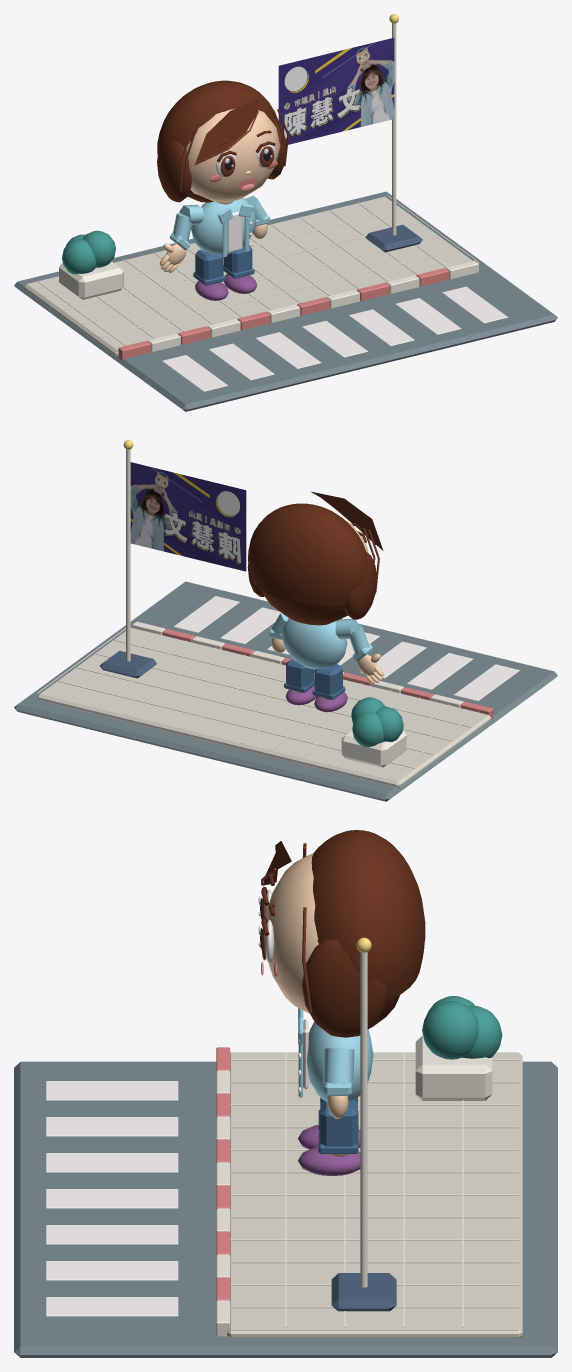
The model's file is huiwen-corner-greeting.glb.
3 views of the same model, one above another, from view 1: azimuth 30°, elevation 25°; view 2: azimuth 150°, elevation 25°; view 3: azimuth 270°, elevation 25° (orthographic). The views are drawn at different scales.
Visible parts, largest first — view 1: purple shoe, OriginalDriveFlag_17ewzvxQ9Mt4qrUyovmTGcRCUW1u6I7pY, SmallQ side swept fringe, rolled wave cuff; view 2: purple shoe, SmallQ side swept fringe, OriginalDriveFlag_17ewzvxQ9Mt4qrUyovmTGcRCUW1u6I7pY, rolled wave cuff; view 3: purple shoe, SmallQ side swept fringe.
Boxes of the visible parts, x1,y1,x2,y2 form: purple shoe: [14, 14, 557, 411]; OriginalDriveFlag_17ewzvxQ9Mt4qrUyovmTGcRCUW1u6I7pY: [278, 37, 394, 144]; SmallQ side swept fringe: [157, 80, 275, 189]; rolled wave cuff: [159, 213, 191, 272]; purple shoe: [14, 440, 557, 801]; SmallQ side swept fringe: [248, 491, 383, 605]; OriginalDriveFlag_17ewzvxQ9Mt4qrUyovmTGcRCUW1u6I7pY: [130, 462, 246, 571]; rolled wave cuff: [349, 625, 383, 683]; purple shoe: [14, 839, 557, 1357]; SmallQ side swept fringe: [264, 830, 425, 1000].
Bounding box in the file's own units: 5.8 × 3.54 × 4.6.
3 materials, 3 textured.
